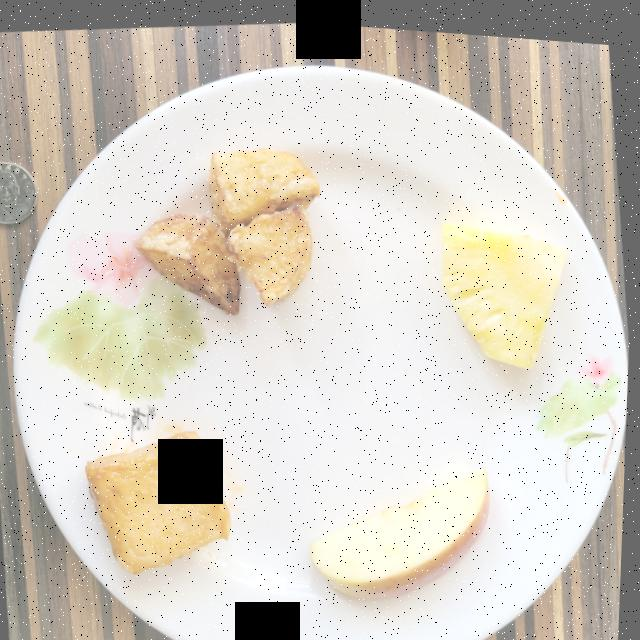apple -sliced-: (313, 461, 492, 592)
coin: (0, 161, 37, 223)
creamy tofu: (88, 427, 234, 572)
fried potato: (137, 144, 320, 312)
pineapple: (442, 215, 566, 360)
